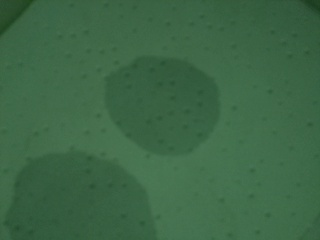Water_detected: (35, 163, 150, 240), (114, 74, 203, 143)
